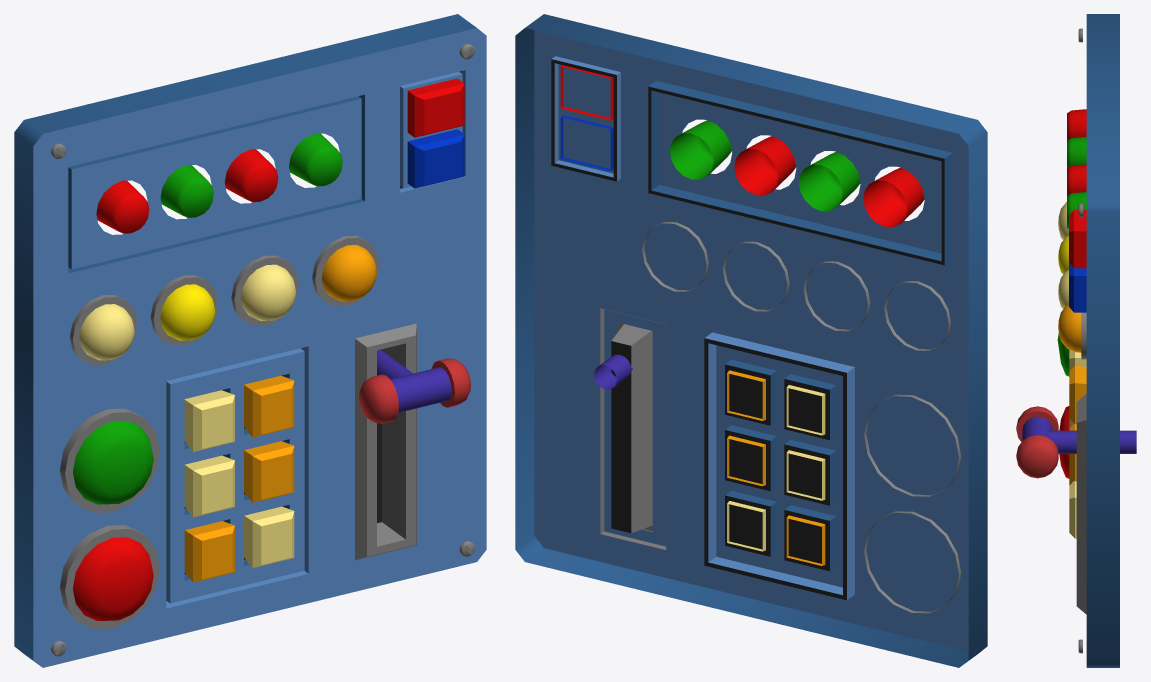
File: Consolle.fbx
3 views of the same model, side by side, from view 1: azimuth 30°, elevation 25°; view 2: azimuth 150°, elevation 25°; view 3: azimuth 270°, elevation 25° (orthographic). The views are drawn at different scales.
Parts seen in each view (by area): view 1: Consolle; view 2: Consolle; view 3: Consolle.
Boxes of the visible parts, x1,y1,x2,y2 form: Consolle: [14, 14, 486, 667]; Consolle: [515, 14, 987, 667]; Consolle: [1016, 14, 1136, 667].
Size of the model in its own units: 4.63 by 5.21 by 1.21.
